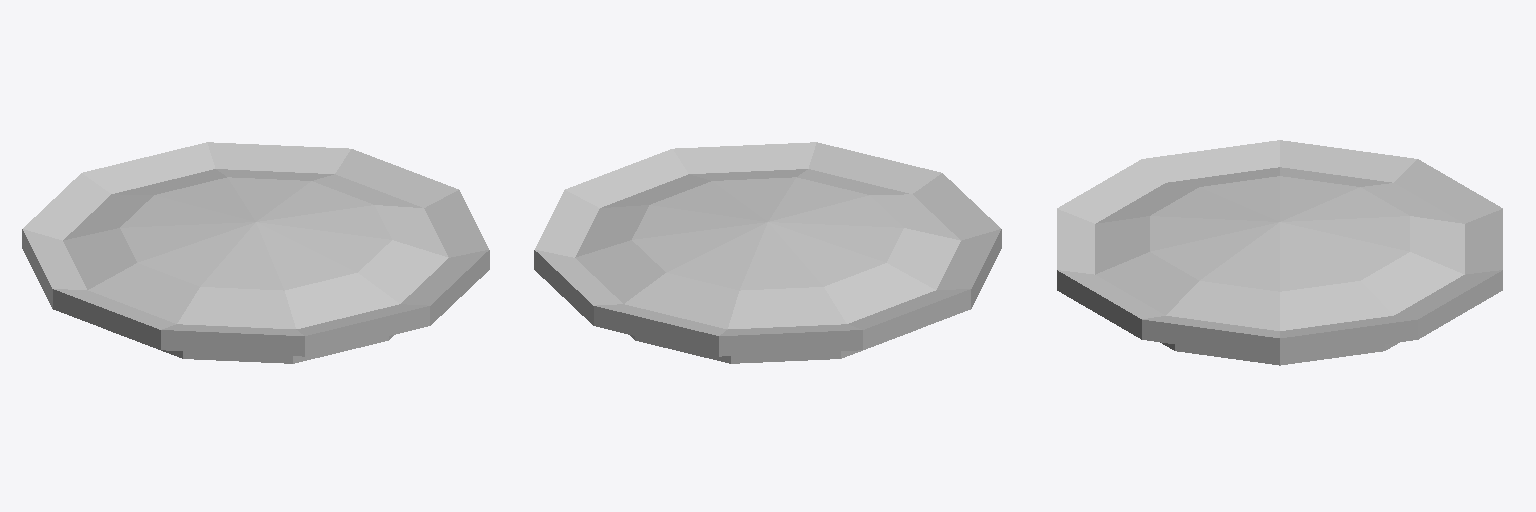
File: spaghetto.obj
The picture shows the model from 3 angles: view 1: azimuth 30°, elevation 25°; view 2: azimuth 150°, elevation 25°; view 3: azimuth 270°, elevation 25°; orthographic projection.
Parts seen in each view (by area): view 1: pCylinder1; view 2: pCylinder1; view 3: pCylinder1.
Boxes of the visible parts, <box> form: pCylinder1: <box>22,142,489,363</box>; pCylinder1: <box>534,142,1001,363</box>; pCylinder1: <box>1057,140,1502,365</box>.
Size of the model in its own units: 2.62 by 0.4188 by 2.5.